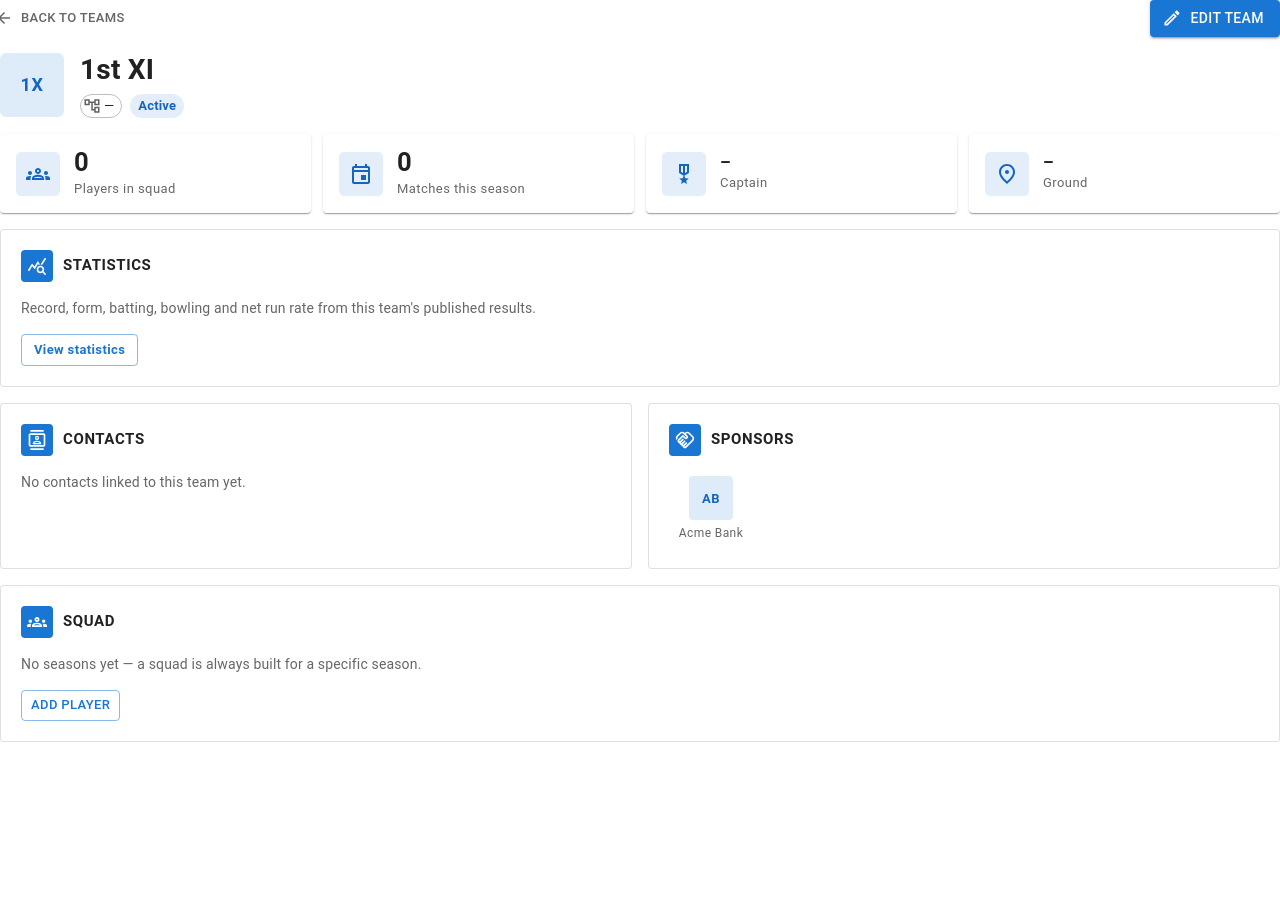
TeamDetailPage › opens the Sponsors quick-view dialog with Website/Email fields, edit route intact
The width and height of the screenshot is (1280, 900).
Expected: the heading "1st XI" is shown, [80,52,154,86]
Click the button with aria-label "Acme Bank — Sponsor": (711, 510) [669,472,753,548]
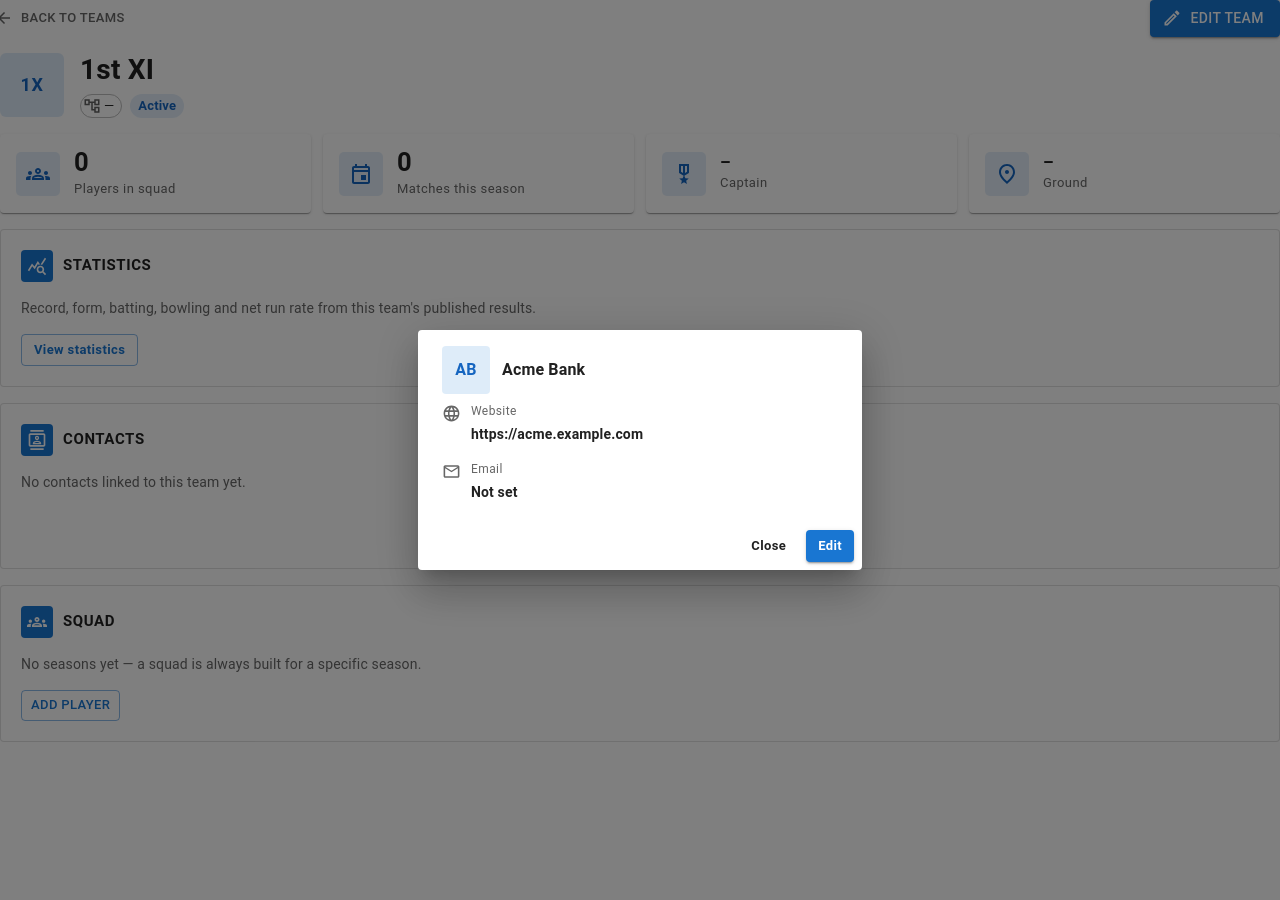
Expected: the dialog is shown, [418,330,862,570]
Expected: the text "https://acme.example.com" is shown, [471,424,643,444]
